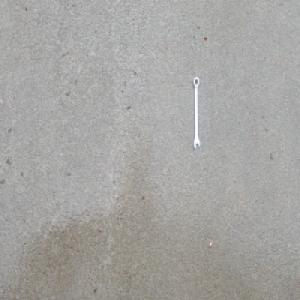Wrench: (192, 75, 201, 150)
